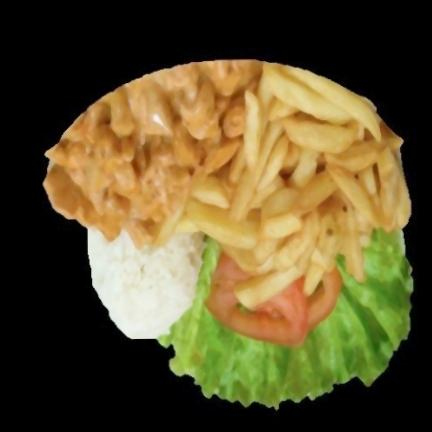chicken: (45, 62, 261, 244)
potato: (173, 65, 410, 307)
rice: (88, 229, 203, 339)
salad: (159, 230, 412, 408)
tomato: (206, 254, 341, 346)
